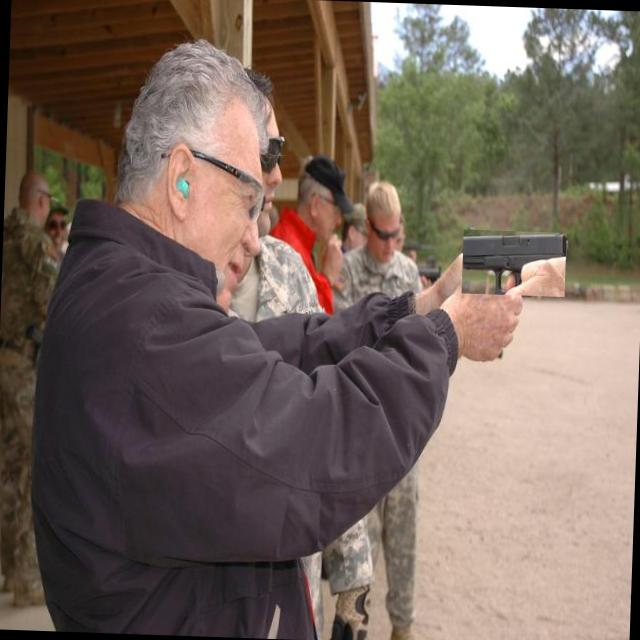Gun: (462, 233, 566, 294)
